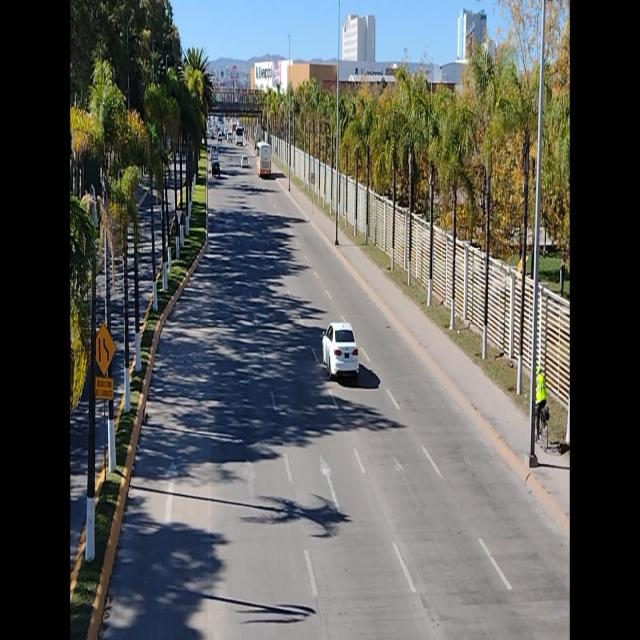Auto: (320, 321, 361, 379)
